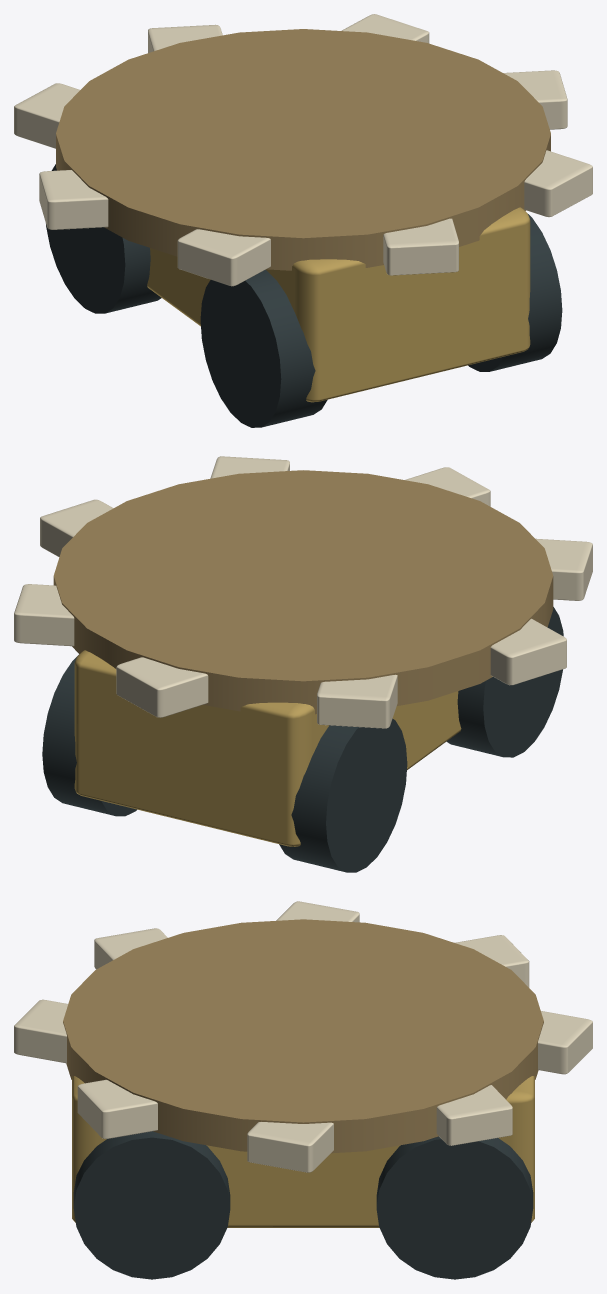
File: warden-machine-rim-saw-v1.glb
The picture shows the model from 3 angles, top to bottom: view 1: azimuth 30°, elevation 25°; view 2: azimuth 150°, elevation 25°; view 3: azimuth 270°, elevation 25°; orthographic projection. The views are drawn at different scales.
Visible parts, largest first — view 1: Brass / Cylinder, Hull paint / Plate, Dark metal / Cylinder (×3), Trim / Plate (×8); view 2: Brass / Cylinder, Hull paint / Plate, Dark metal / Cylinder (×3), Trim / Plate (×8); view 3: Brass / Cylinder, Dark metal / Cylinder (×2), Trim / Plate (×8), Hull paint / Plate.
Part boxes in pixels (left/top/right/bottom): Brass / Cylinder: left=56, top=29, right=550, bottom=270; Hull paint / Plate: left=147, top=207, right=530, bottom=402; Dark metal / Cylinder (×3): left=46, top=164, right=562, bottom=427; Trim / Plate (×8): left=14, top=14, right=592, bottom=286; Brass / Cylinder: left=53, top=470, right=553, bottom=714; Hull paint / Plate: left=74, top=650, right=461, bottom=846; Dark metal / Cylinder (×3): left=42, top=607, right=563, bottom=872; Trim / Plate (×8): left=14, top=456, right=592, bottom=728; Brass / Cylinder: left=63, top=919, right=543, bottom=1153; Dark metal / Cylinder (×2): left=73, top=1131, right=533, bottom=1279; Trim / Plate (×8): left=14, top=901, right=592, bottom=1172; Hull paint / Plate: left=72, top=1076, right=534, bottom=1227.
Bounding box in the file's own units: 0.2268 × 0.083 × 0.2268.
